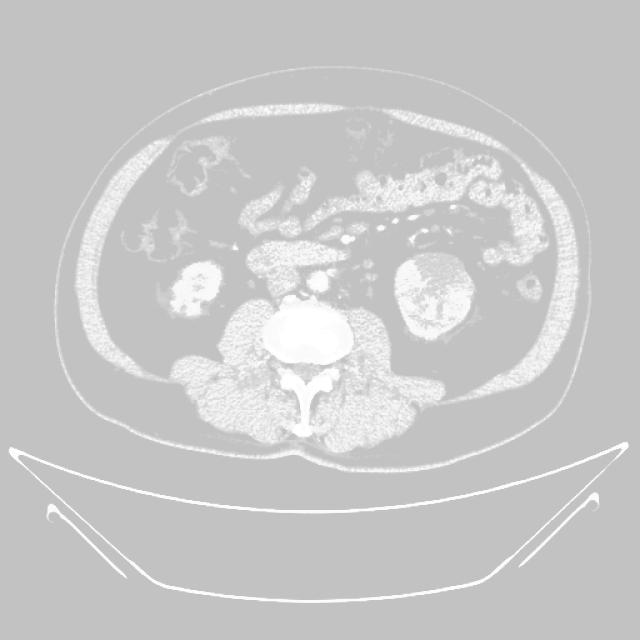TUMOR: (106, 168, 514, 349)
